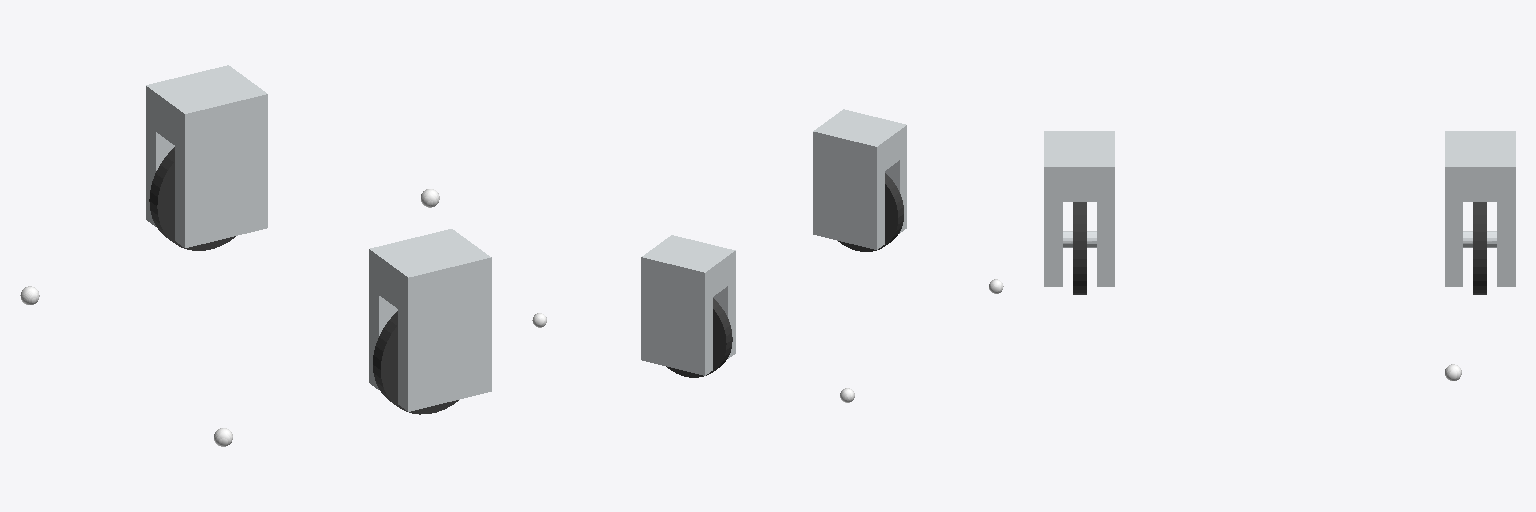
URDF robot description (robot_urdf):
<?xml version="1.0" encoding="utf-8"?>
<!-- This URDF was automatically created by SolidWorks to URDF Exporter! Originally created by Stephen Brawner (brawner@gmail.com) 
     Commit Version: 1.6.0-4-g7f85cfe  Build Version: 1.6.7995.38578
     For more information, please see http://wiki.ros.org/sw_urdf_exporter -->
<robot
  name="robot_urdf">
  <link
    name="base_link">
    <inertial>
      <origin
        xyz="0.0082826 -0.015426 0.95062"
        rpy="0 0 0" />
      <mass
        value="62.522" />
      <inertia
        ixx="27.455"
        ixy="-5.3082E-14"
        ixz="-0.071116"
        iyy="29.275"
        iyz="-9.0248E-15"
        izz="51.49" />
    </inertial>
    <visual>
      <origin
        xyz="0 0 0"
        rpy="0 0 0" />
      <geometry>
        <mesh
          filename="package://robot_urdf/meshes/2w/base_link.STL" />
      </geometry>
      <material
        name="">
        <color
          rgba="0.89804 0.91765 0.92941 1" />
      </material>
    </visual>
    <collision>
      <origin
        xyz="0 0 0"
        rpy="0 0 0" />
      <geometry>
        <mesh
          filename="package://robot_urdf/meshes/2w/base_link.STL" />
      </geometry>
    </collision>
  </link>
  <link
    name="chassis_link">
    <inertial>
      <origin
        xyz="-0.0030051 -2.6021E-16 -0.017698"
        rpy="0 0 0" />
      <mass
        value="62.522" />
      <inertia
        ixx="27.455"
        ixy="-5.3228E-14"
        ixz="-0.071116"
        iyy="29.275"
        iyz="-1.4137E-15"
        izz="51.49" />
    </inertial>
    <visual>
      <origin
        xyz="0 0 0"
        rpy="0 0 0" />
      <geometry>
        <mesh
          filename="package://robot_urdf/meshes/2w/chassis_link.STL" />
      </geometry>
      <material
        name="">
        <color
          rgba="0.89804 0.91765 0.92941 1" />
      </material>
    </visual>
    <collision>
      <origin
        xyz="0 0 0"
        rpy="0 0 0" />
      <geometry>
        <mesh
          filename="package://robot_urdf/meshes/2w/chassis_link.STL" />
      </geometry>
    </collision>
  </link>
  <joint
    name="chassis_joint"
    type="fixed">
    <origin
      xyz="0.0112876459450606 -0.015426091141137 0.96832"
      rpy="0 0 0" />
    <parent
      link="base_link" />
    <child
      link="chassis_link" />
    <axis
      xyz="0 0 0" />
  </joint>
  <link
    name="left_wheel_holder_link">
    <inertial>
      <origin
        xyz="2.0817E-16 -2.2204E-16 -0.2296"
        rpy="0 0 0" />
      <mass
        value="4.2419" />
      <inertia
        ixx="0.1287"
        ixy="-1.0555E-16"
        ixz="-1.6013E-16"
        iyy="0.13522"
        iyz="4.6435E-17"
        izz="0.079121" />
    </inertial>
    <visual>
      <origin
        xyz="0 0 0"
        rpy="0 0 0" />
      <geometry>
        <mesh
          filename="package://robot_urdf/meshes/2w/left_wheel_holder_link.STL" />
      </geometry>
      <material
        name="">
        <color
          rgba="0.89804 0.91765 0.92941 1" />
      </material>
    </visual>
    <collision>
      <origin
        xyz="0 0 0"
        rpy="0 0 0" />
      <geometry>
        <mesh
          filename="package://robot_urdf/meshes/2w/left_wheel_holder_link.STL" />
      </geometry>
    </collision>
  </link>
  <joint
    name="left_wheel_holder_joint"
    type="fixed">
    <origin
      xyz="-0.067275 0.7012 -0.42432"
      rpy="0 0 0" />
    <parent
      link="chassis_link" />
    <child
      link="left_wheel_holder_link" />
    <axis
      xyz="0 0 0" />
  </joint>
  <link
    name="left_wheel_link">
    <inertial>
      <origin
        xyz="-6.9389E-18 1.1102E-16 -2.7756E-17"
        rpy="0 0 0" />
      <mass
        value="5.9118" />
      <inertia
        ixx="0.056856"
        ixy="-6.9119E-18"
        ixz="-4.2487E-34"
        iyy="0.11125"
        iyz="-5.5409E-35"
        izz="0.056856" />
    </inertial>
    <visual>
      <origin
        xyz="0 0 0"
        rpy="0 0 0" />
      <geometry>
        <mesh
          filename="package://robot_urdf/meshes/2w/left_wheel_link.STL" />
      </geometry>
      <material
        name="">
        <color
          rgba="0.29804 0.29804 0.29804 1" />
      </material>
    </visual>
    <collision>
      <origin
        xyz="0 0 0"
        rpy="0 0 0" />
      <geometry>
        <mesh
          filename="package://robot_urdf/meshes/2w/left_wheel_link.STL" />
      </geometry>
    </collision>
  </link>
  <joint
    name="left_wheel_joint"
    type="continuous">
    <origin
      xyz="0 0 -0.35"
      rpy="0 0 0" />
    <parent
      link="left_wheel_holder_link" />
    <child
      link="left_wheel_link" />
    <axis
      xyz="0 -1 0" />
    <limit
      effort="100"
      velocity="10" />
  </joint>
  <link
    name="right_wheel_holder_link">
    <inertial>
      <origin
        xyz="1.1102E-16 -1.1102E-16 -0.2296"
        rpy="0 0 0" />
      <mass
        value="4.2419" />
      <inertia
        ixx="0.1287"
        ixy="-8.8611E-17"
        ixz="-1.825E-16"
        iyy="0.13522"
        iyz="-6.1653E-18"
        izz="0.079121" />
    </inertial>
    <visual>
      <origin
        xyz="0 0 0"
        rpy="0 0 0" />
      <geometry>
        <mesh
          filename="package://robot_urdf/meshes/2w/right_wheel_holder_link.STL" />
      </geometry>
      <material
        name="">
        <color
          rgba="0.89804 0.91765 0.92941 1" />
      </material>
    </visual>
    <collision>
      <origin
        xyz="0 0 0"
        rpy="0 0 0" />
      <geometry>
        <mesh
          filename="package://robot_urdf/meshes/2w/right_wheel_holder_link.STL" />
      </geometry>
    </collision>
  </link>
  <joint
    name="right_wheel_holder_joint"
    type="fixed">
    <origin
      xyz="-0.067275 -0.7012 -0.42432"
      rpy="0 0 0" />
    <parent
      link="chassis_link" />
    <child
      link="right_wheel_holder_link" />
    <axis
      xyz="0 0 0" />
  </joint>
  <link
    name="right_wheel_link">
    <inertial>
      <origin
        xyz="-6.9389E-18 -1.1102E-16 -2.7756E-17"
        rpy="0 0 0" />
      <mass
        value="5.9118" />
      <inertia
        ixx="0.056856"
        ixy="-3.2189E-35"
        ixz="-8.4142E-34"
        iyy="0.11125"
        iyz="1.4733E-18"
        izz="0.056856" />
    </inertial>
    <visual>
      <origin
        xyz="0 0 0"
        rpy="0 0 0" />
      <geometry>
        <mesh
          filename="package://robot_urdf/meshes/2w/right_wheel_link.STL" />
      </geometry>
      <material
        name="">
        <color
          rgba="0.29804 0.29804 0.29804 1" />
      </material>
    </visual>
    <collision>
      <origin
        xyz="0 0 0"
        rpy="0 0 0" />
      <geometry>
        <mesh
          filename="package://robot_urdf/meshes/2w/right_wheel_link.STL" />
      </geometry>
    </collision>
  </link>
  <joint
    name="right_wheel_joint"
    type="continuous">
    <origin
      xyz="0 0 -0.35"
      rpy="0 0 0" />
    <parent
      link="right_wheel_holder_link" />
    <child
      link="right_wheel_link" />
    <axis
      xyz="0 -1 0" />
    <limit
      effort="100"
      velocity="10" />
  </joint>
  <link
    name="ball_link_fl">
    <inertial>
      <origin
        xyz="0 0 3.4694E-18"
        rpy="0 0 0" />
      <mass
        value="0.20471" />
      <inertia
        ixx="7.3694E-05"
        ixy="0"
        ixz="0"
        iyy="7.3694E-05"
        iyz="0"
        izz="7.3694E-05" />
    </inertial>
    <visual>
      <origin
        xyz="0 0 0"
        rpy="0 0 0" />
      <geometry>
        <mesh
          filename="package://robot_urdf/meshes/2w/ball_link_fl.STL" />
      </geometry>
      <material
        name="">
        <color
          rgba="1 1 1 1" />
      </material>
    </visual>
    <collision>
      <origin xyz="0 0 0" rpy="0 0 0" />
      <geometry>
        <sphere radius="0.025" />
      </geometry>
    </collision>
  </link>
  <joint
    name="ball_joint_fl"
    type="fixed">
    <origin
      xyz="0.68801 0.6072 -0.93832"
      rpy="0 0 0" />
    <parent
      link="chassis_link" />
    <child
      link="ball_link_fl" />
    <axis
      xyz="0 1 0" />
  </joint>
  <link
    name="ball_link_fr">
    <inertial>
      <origin
        xyz="0 0 3.46944695195361E-18"
        rpy="0 0 0" />
      <mass
        value="0.204706177307911" />
      <inertia
        ixx="7.36942238308479E-05"
        ixy="0"
        ixz="0"
        iyy="7.36942238308479E-05"
        iyz="0"
        izz="7.36942238308479E-05" />
    </inertial>
    <visual>
      <origin
        xyz="0 0 0"
        rpy="0 0 0" />
      <geometry>
        <mesh
          filename="package://robot_urdf/meshes/2w/ball_link_fr.STL" />
      </geometry>
      <material
        name="">
        <color
          rgba="1 1 1 1" />
      </material>
    </visual>
    <collision>
      <origin xyz="0 0 0" rpy="0 0 0" />
      <geometry>
        <sphere radius="0.025" />
      </geometry>
    </collision>
  </link>
  <joint
    name="ball_joint_fr"
    type="fixed">
    <origin
      xyz="0.68801 -0.6072 -0.93832"
      rpy="0 0 0" />
    <parent
      link="chassis_link" />
    <child
      link="ball_link_fr" />
    <axis
      xyz="0 0 0" />
  </joint>
  <link
    name="ball_link_br">
    <inertial>
      <origin
        xyz="0 -1.11022302462516E-16 -3.46944695195361E-18"
        rpy="0 0 0" />
      <mass
        value="0.204706177307911" />
      <inertia
        ixx="7.36942238308479E-05"
        ixy="0"
        ixz="0"
        iyy="7.36942238308479E-05"
        iyz="0"
        izz="7.36942238308479E-05" />
    </inertial>
    <visual>
      <origin
        xyz="0 0 0"
        rpy="0 0 0" />
      <geometry>
        <mesh
          filename="package://robot_urdf/meshes/2w/ball_link_br.STL" />
      </geometry>
      <material
        name="">
        <color
          rgba="1 1 1 1" />
      </material>
    </visual>
    <collision>
      <origin xyz="0 0 0" rpy="0 0 0" />
      <geometry>
        <sphere radius="0.025" />
      </geometry>
    </collision>
  </link>
  <joint
    name="ball_joint_br"
    type="fixed">
    <origin
      xyz="-0.76256 -0.6072 -0.93832"
      rpy="3.1416 0 3.1416" />
    <parent
      link="chassis_link" />
    <child
      link="ball_link_br" />
    <axis
      xyz="0 1 0" />
  </joint>
  <link
    name="ball_link_bl">
    <inertial>
      <origin
        xyz="0 0 3.46944695195361E-18"
        rpy="0 0 0" />
      <mass
        value="0.204706177307911" />
      <inertia
        ixx="7.3694223830848E-05"
        ixy="-1.87226095231855E-21"
        ixz="2.3979864158557E-21"
        iyy="7.3694223830848E-05"
        iyz="-3.09568679353192E-20"
        izz="7.3694223830848E-05" />
    </inertial>
    <visual>
      <origin
        xyz="0 0 0"
        rpy="0 0 0" />
      <geometry>
        <mesh
          filename="package://robot_urdf/meshes/2w/ball_link_bl.STL" />
      </geometry>
      <material
        name="">
        <color
          rgba="1 1 1 1" />
      </material>
    </visual>
    <collision>
      <origin xyz="0 0 0" rpy="0 0 0" />
      <geometry>
        <sphere radius="0.025" />
      </geometry>
    </collision>
  </link>
  <joint
    name="ball_joint_bl"
    type="fixed">
    <origin
      xyz="-0.76256 0.6072 -0.93832"
      rpy="0 0 0" />
    <parent
      link="chassis_link" />
    <child
      link="ball_link_bl" />
    <axis
      xyz="0 0 0" />
  </joint>
  <link
    name="depth_link_r">
  </link>
  <joint
    name="depth_joint_r"
    type="fixed">
    <origin
      xyz="1.017 -0.45 -0.21645"
      rpy="0 0.7853982 0.2618" />
    <parent
      link="chassis_link" />
    <child
      link="depth_link_r" />
    <axis
      xyz="0 0 0" />
  </joint>
  <link
    name="depth_link_l">
  </link>
  <joint
    name="depth_joint_l"
    type="fixed">
    <origin
      xyz="1.017 0.45 -0.21645"
      rpy="0 0.7853982 -0.2618" />
    <parent
      link="chassis_link" />
    <child
      link="depth_link_l" />
    <axis
      xyz="0 0 0" />
  </joint>
  
  <gazebo reference="depth_link_l">
    <sensor name="gpu_lidar_l" type="gpu_lidar">
      <ignition_frame_id>depth_link_l</ignition_frame_id>
      <topic>lidar_l</topic>
      <update_rate>10</update_rate>
      <always_on>true</always_on>
      <visualize>false</visualize> <!-- Keep false to save resources unless debugging rays -->
      <lidar>
        <scan>
          <horizontal>
            <samples>360</samples>
            <resolution>1</resolution>
            <min_angle>-0.50705</min_angle>
            <max_angle>0.50705</max_angle>
          </horizontal>
          <vertical>
            <samples>100</samples> <!-- 16 vertical slices provides a good 3D point cloud -->
            <resolution>1</resolution>
            <min_angle>-0.39445</min_angle> <!-- -15 degrees -->
            <max_angle>0.39445</max_angle>  <!-- +15 degrees -->
          </vertical>
        </scan>
        <range>
          <min>0.1</min>
          <max>15.0</max> <!-- 15 meter range is typical -->
          <resolution>0.01</resolution>
        </range>
        <noise>
          <type>gaussian</type>
          <mean>0.0</mean>
          <stddev>0.01</stddev>
        </noise>
      </lidar>
    </sensor>
  </gazebo>

  <gazebo reference="depth_link_r">
    <sensor name="gpu_lidar_r" type="gpu_lidar">
      <ignition_frame_id>depth_link_r</ignition_frame_id>
      <topic>lidar_r</topic>
      <update_rate>10</update_rate>
      <always_on>true</always_on>
      <visualize>false</visualize> <!-- Keep false to save resources unless debugging rays -->
      <lidar>
        <scan>
          <horizontal>
            <samples>360</samples>
            <resolution>1</resolution>
            <min_angle>-0.50705</min_angle>
            <max_angle>0.50705</max_angle>
          </horizontal>
          <vertical>
            <samples>100</samples> <!-- 16 vertical slices provides a good 3D point cloud -->
            <resolution>1</resolution>
            <min_angle>-0.39445</min_angle> <!-- -15 degrees -->
            <max_angle>0.39445</max_angle>  <!-- +15 degrees -->
          </vertical>
        </scan>
        <range>
          <min>0.1</min>
          <max>15.0</max> <!-- 15 meter range is typical -->
          <resolution>0.01</resolution>
        </range>
        <noise>
          <type>gaussian</type>
          <mean>0.0</mean>
          <stddev>0.01</stddev>
        </noise>
      </lidar>
    </sensor>
  </gazebo>
  
  <ros2_control name="IgnitionSystem" type="system">

    <hardware>
      <plugin>ign_ros2_control/IgnitionSystem</plugin>
    </hardware>

    <joint name="left_wheel_joint">
      <command_interface name="velocity" />
      <state_interface name="position" />
      <state_interface name="velocity" />
    </joint>

    <joint name="right_wheel_joint">
      <command_interface name="velocity" />
      <state_interface name="position" />
      <state_interface name="velocity" />
    </joint>

  </ros2_control>

  <gazebo>

    <plugin filename="libign_ros2_control-system.so"
      name="ign_ros2_control::IgnitionROS2ControlPlugin">
      <robot_param>robot_description</robot_param>
      <robot_param_node>robot_state_publisher</robot_param_node>
      <parameters>/home/manfred/Projects/Vitrox/src/robot_urdf/config/diffdrive.yaml</parameters>
    </plugin>

  </gazebo>

  <gazebo reference="left_wheel_link">
    <mu1>1.2</mu1>
    <mu2>1.2</mu2>
    <kp>1000000.0</kp>
    <kd>100.0</kd>
    <minDepth>0.001</minDepth>
    <maxContacts>1</maxContacts>
  </gazebo>

  <gazebo reference="right_wheel_link">
    <mu1>1.2</mu1>
    <mu2>1.2</mu2>
    <kp>1000000.0</kp>
    <kd>100.0</kd>
    <minDepth>0.001</minDepth>
    <maxContacts>1</maxContacts>
  </gazebo>

  <gazebo reference="ball_link_fl">
    <mu1>0.0</mu1>
    <mu2>0.0</mu2>
  </gazebo>

  <gazebo reference="ball_link_fr">
    <mu1>0.0</mu1>
    <mu2>0.0</mu2>
  </gazebo>

  <gazebo reference="ball_link_br">
    <mu1>0.0</mu1>
    <mu2>0.0</mu2>
  </gazebo>

  <gazebo reference="ball_link_bl">
    <mu1>0.0</mu1>
    <mu2>0.0</mu2>
  </gazebo>
</robot>

--- Render facts (derived) ---
Views: 3 orthographic renders of the robot side by side, from view 1: azimuth 30°, elevation 25°; view 2: azimuth 150°, elevation 25°; view 3: azimuth 270°, elevation 25°.
Model robot_urdf with 12 links and 11 joints (2 continuous, 9 fixed), rooted at base_link, posed every joint at zero.
Visible links, largest first — view 1: right_wheel_holder_link, left_wheel_holder_link, left_wheel_link, right_wheel_link; view 2: left_wheel_holder_link, right_wheel_holder_link, left_wheel_link, right_wheel_link; view 3: left_wheel_holder_link, right_wheel_holder_link, left_wheel_link, right_wheel_link.
Boxes of the visible links, x1,y1,x2,y2 form: right_wheel_holder_link: [369, 229, 491, 411]; left_wheel_holder_link: [146, 65, 267, 247]; left_wheel_link: [149, 147, 235, 250]; right_wheel_link: [373, 311, 458, 414]; left_wheel_holder_link: [641, 235, 735, 375]; right_wheel_holder_link: [813, 109, 906, 249]; left_wheel_link: [666, 298, 732, 377]; right_wheel_link: [838, 173, 903, 251]; left_wheel_holder_link: [1445, 131, 1515, 286]; right_wheel_holder_link: [1044, 131, 1114, 286]; left_wheel_link: [1473, 202, 1486, 294]; right_wheel_link: [1073, 202, 1086, 294].
Bounding box of the posed robot: 1.51 × 1.65 × 0.544 m (x, y, z).
Meshes: 10 distinct files referenced, 7 mesh visuals loaded (7 binary STL); not drawn: 3 (reference not matched to a file when rendering).
